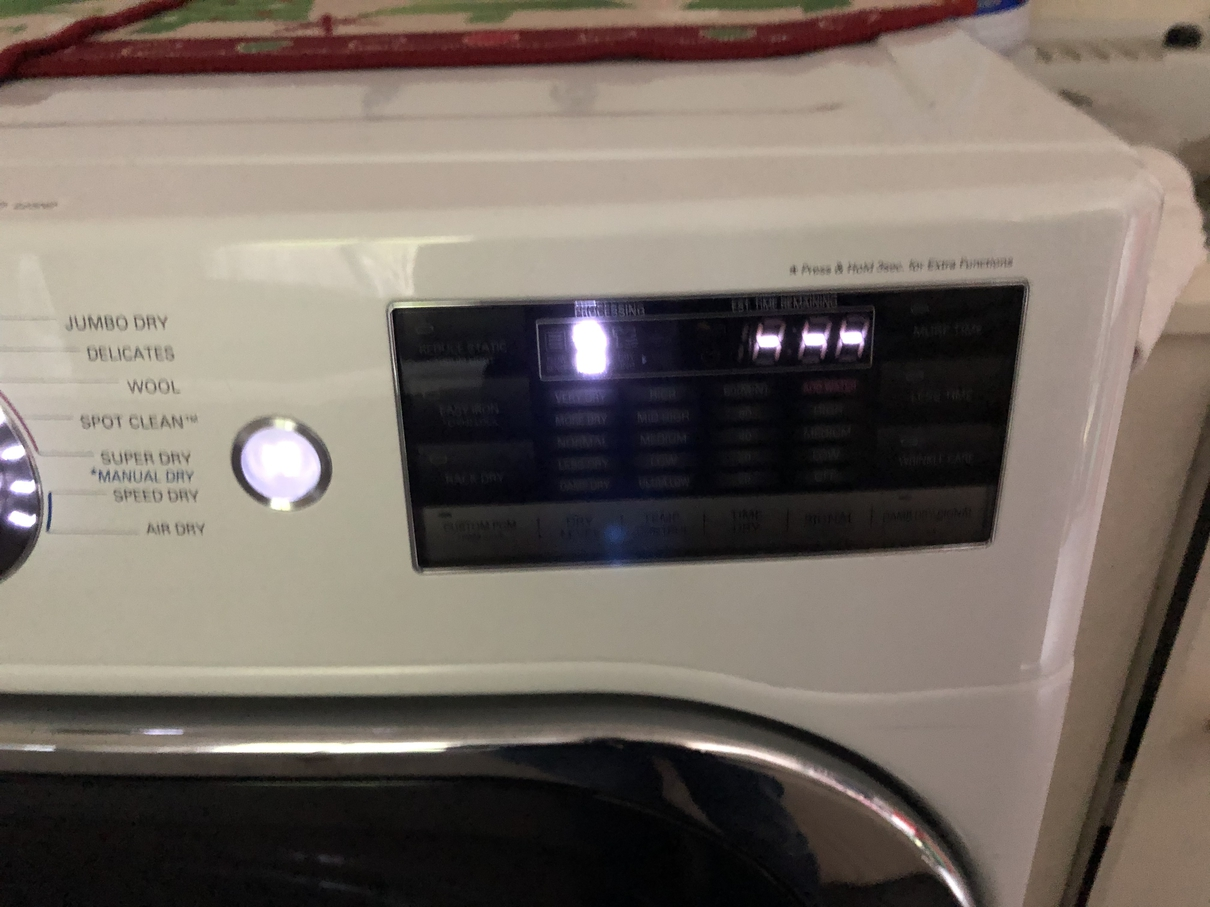status: (524, 293, 880, 386)
